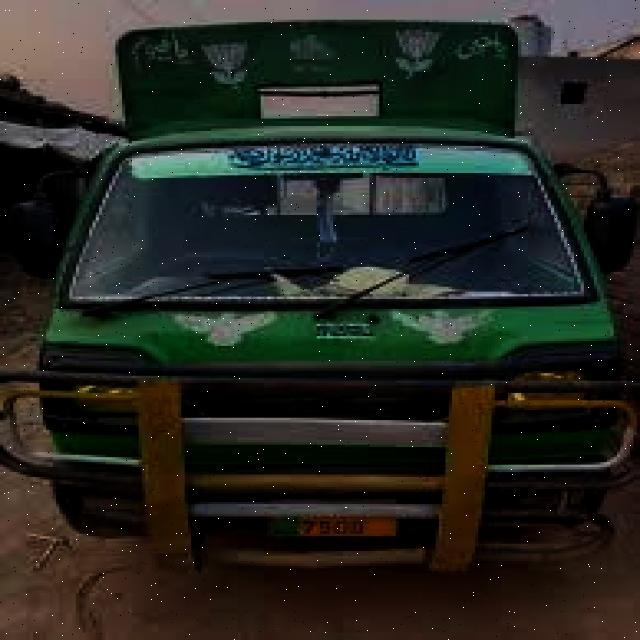Van: (0, 116, 640, 571)
